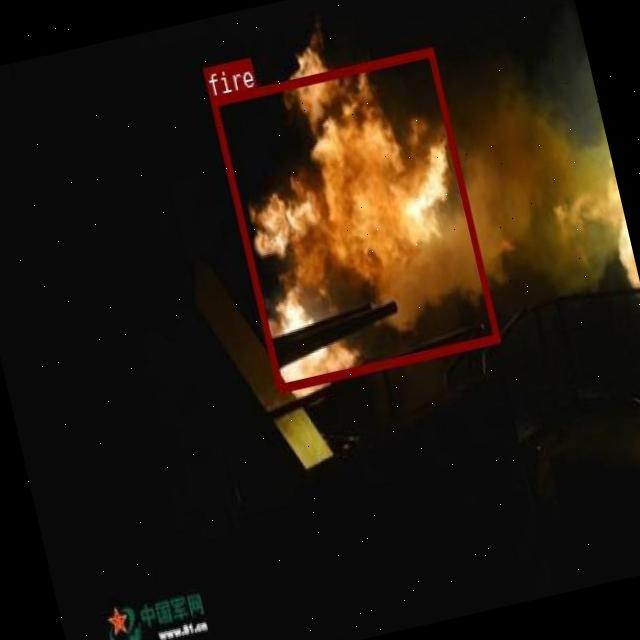fire: (209, 46, 499, 390)
